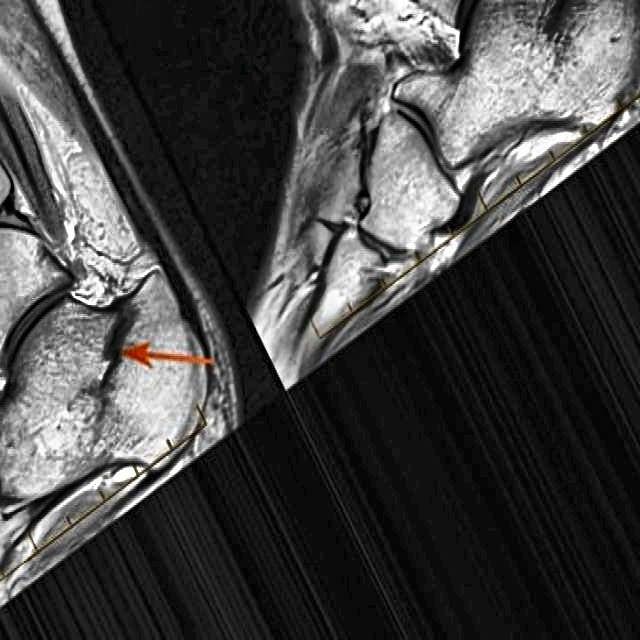Oblique Displaced: (85, 274, 144, 424)
